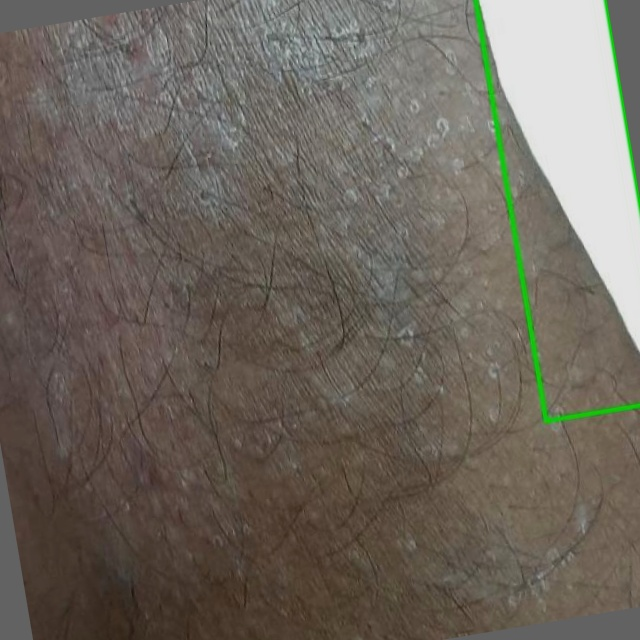Contact Dermatitis: (475, 0, 639, 421)
